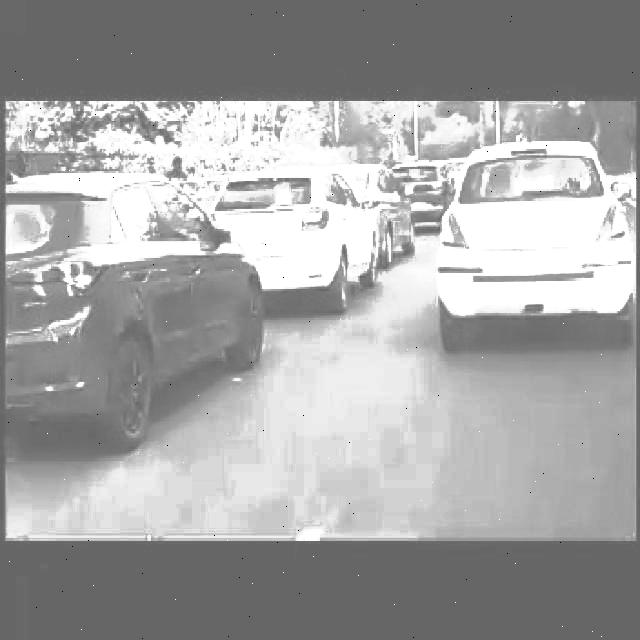Car: (0, 158, 280, 442), (443, 131, 640, 351), (226, 164, 384, 320), (358, 163, 426, 254), (409, 165, 455, 231)
